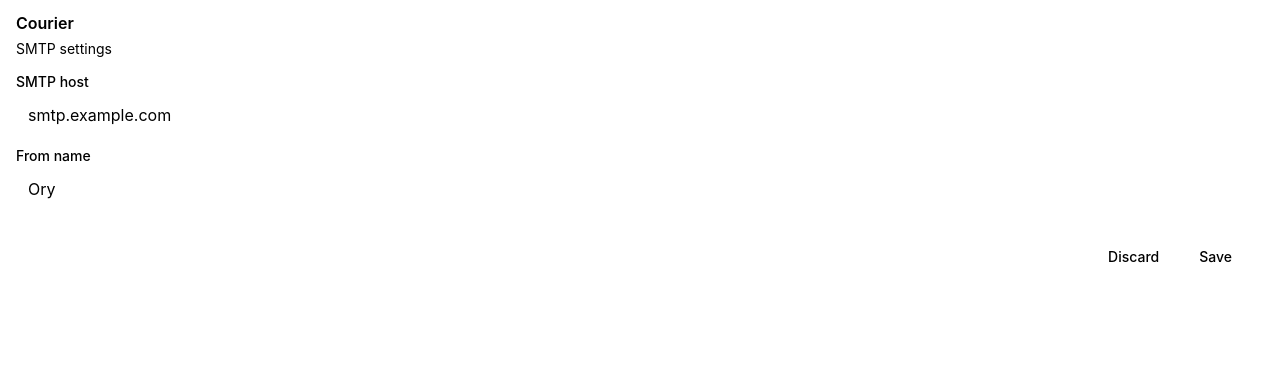
Test: SettingsForm (FE-03) › reflects the backend status field (restarting) in the banner
Type "Z" into the field labelled "From name" at (632, 189), box [16,171,1248,207]
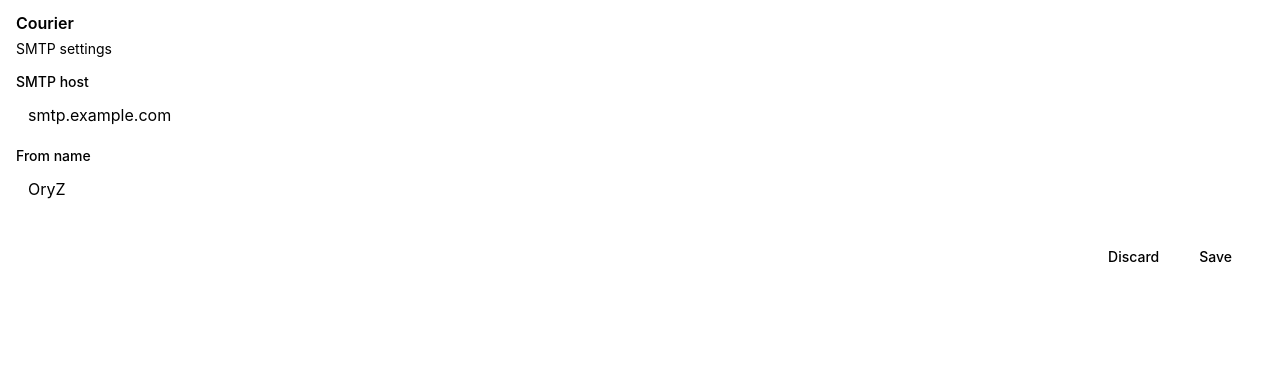
Click the button "Save" at (1216, 257), box [1183,239,1248,275]
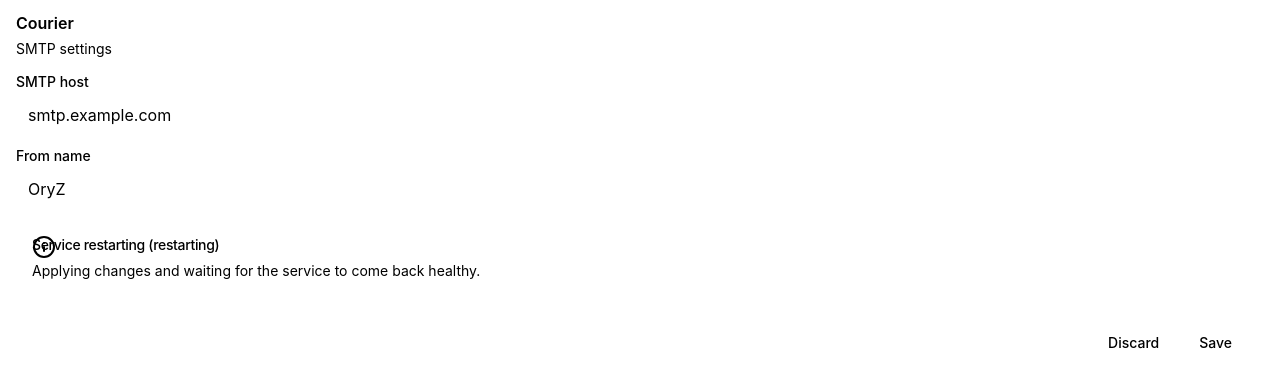
Check: the message shows "restarting", box [153,236,214,253]
